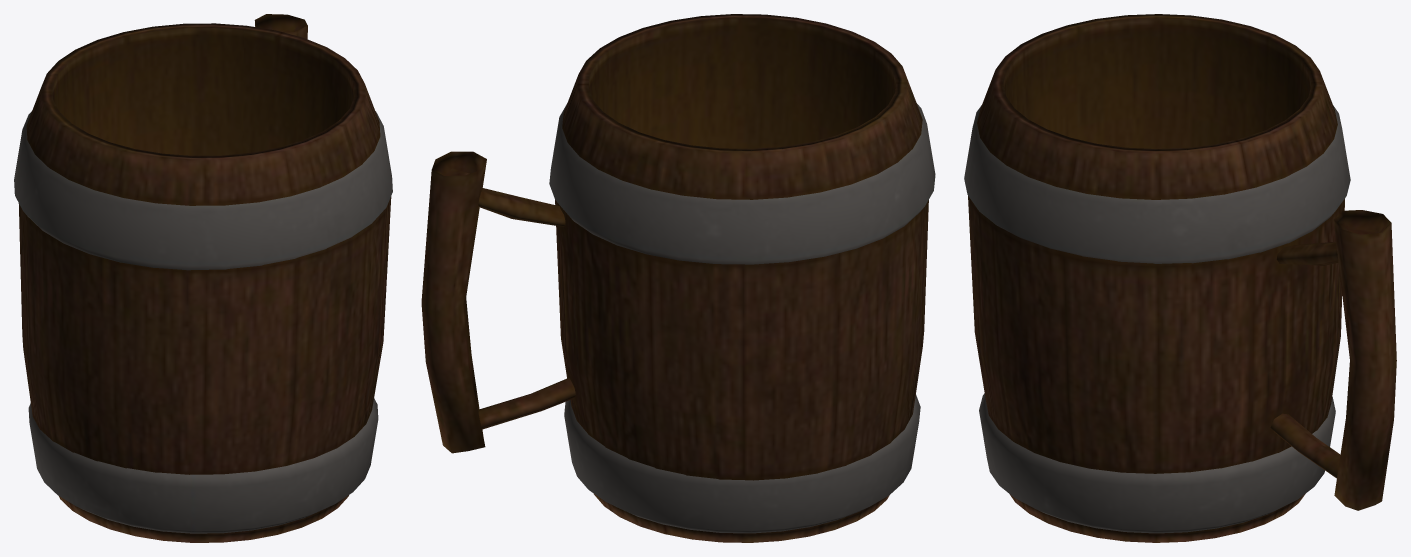
The model's file is Wooden Mug.glb.
3 renders of one model, left to right at view 1: azimuth 30°, elevation 25°; view 2: azimuth 150°, elevation 25°; view 3: azimuth 270°, elevation 25°, orthographic.
Visible parts, largest first — view 1: DerrvoLP.002; view 2: DerrvoLP.002; view 3: DerrvoLP.002.
Part boxes in pixels (x1,y1,x2,y2): DerrvoLP.002: (14, 14, 392, 542); DerrvoLP.002: (421, 14, 935, 542); DerrvoLP.002: (964, 14, 1396, 542).
Bounding box in the file's own units: 0.2495 × 0.2487 × 0.2474.
1 material, 1 textured.
